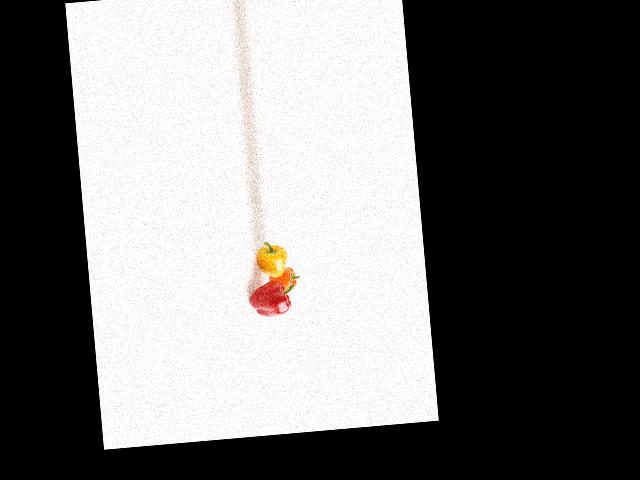bell_pepper: (243, 277, 300, 319)
